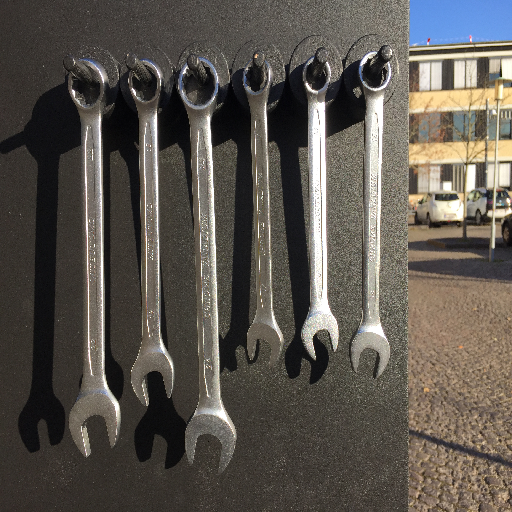bottom: (183, 406, 238, 478), (67, 397, 125, 459), (127, 352, 179, 408), (347, 326, 393, 379), (298, 314, 342, 362), (245, 321, 285, 367)
top: (176, 56, 222, 115), (65, 59, 113, 113), (125, 57, 165, 106), (355, 51, 394, 94), (298, 56, 335, 95), (238, 59, 274, 97)
